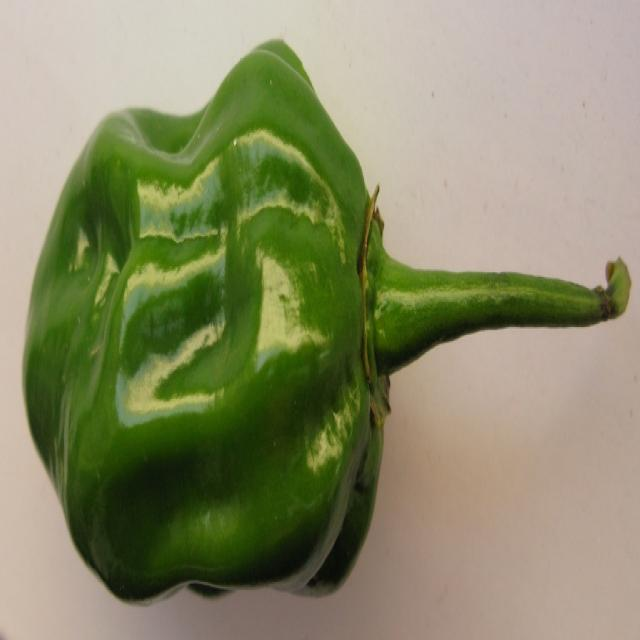Bell pepper: (23, 31, 630, 609)
